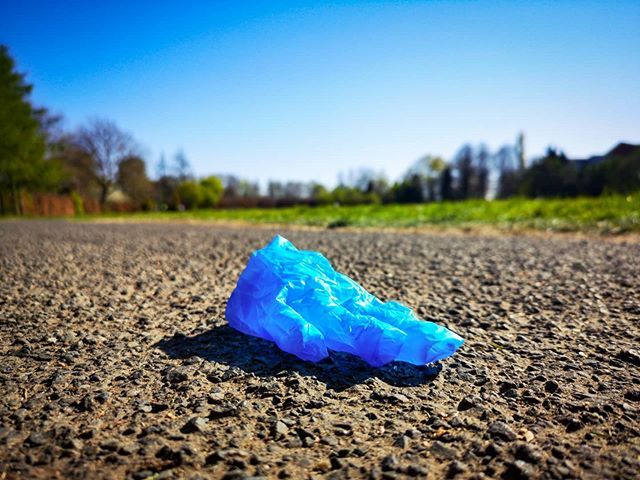sky: (58, 1, 640, 155)
trash: (171, 201, 489, 406)
